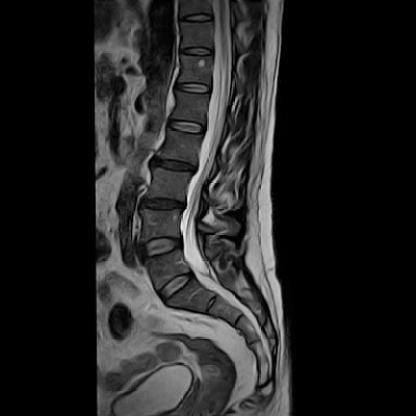Degenerative Disc Diseaserotation: (143, 195, 184, 213), (155, 157, 195, 175)
Disc Bulgerotation: (142, 235, 180, 258), (143, 195, 184, 213), (155, 157, 195, 175)
